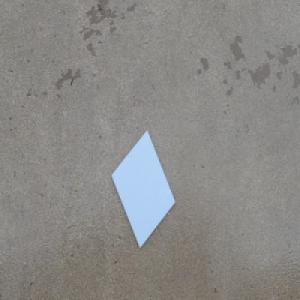PaintChip: (109, 126, 177, 250)
